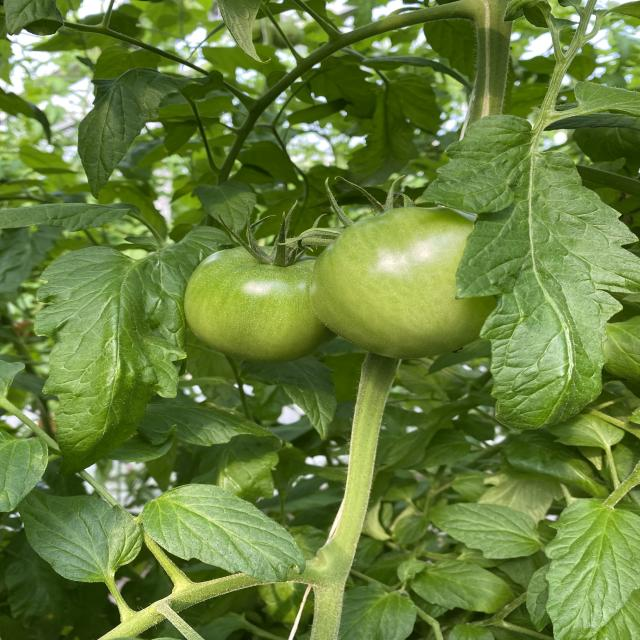unripe tomato: (148, 200, 525, 368)
